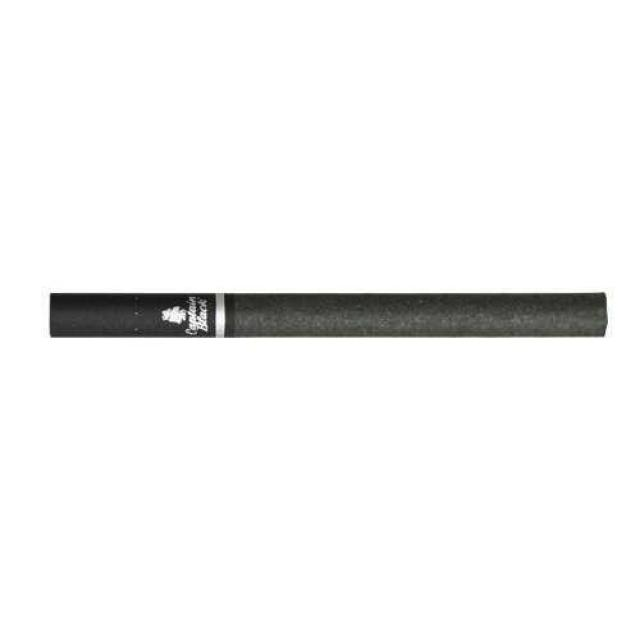cigarette: (47, 293, 609, 340)
